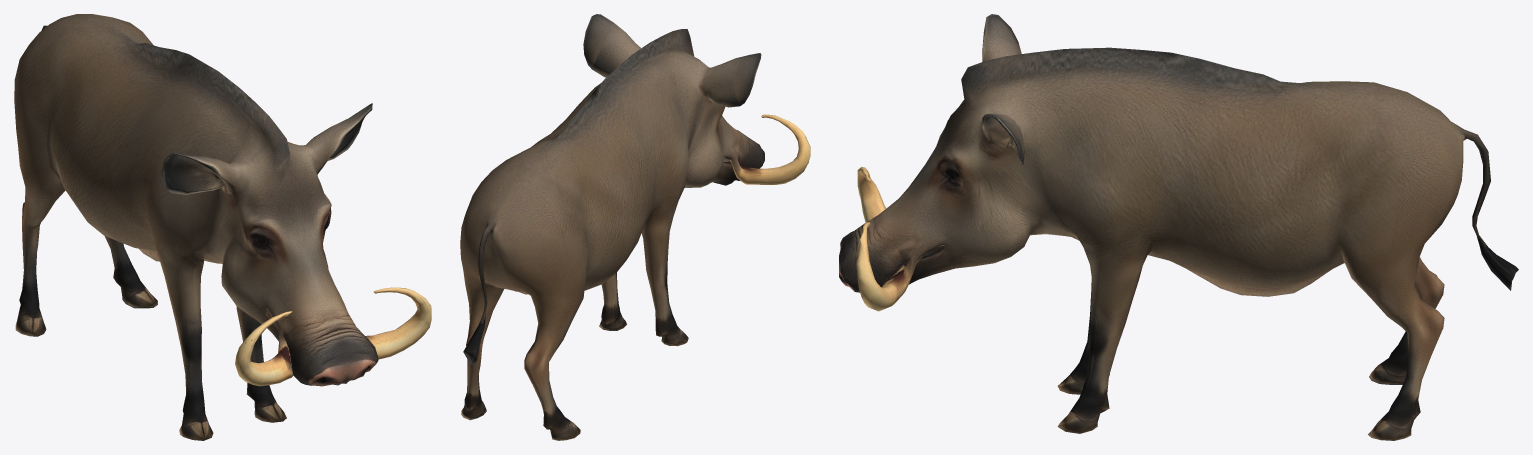
File: common-warthog.glb
The picture shows the model from 3 angles, left to right: view 1: azimuth 30°, elevation 25°; view 2: azimuth 150°, elevation 25°; view 3: azimuth 270°, elevation 25°; orthographic projection. The views are drawn at different scales.
Size of the model in its own units: 0.3633 by 0.584 by 1.
1 material, 1 textured.
